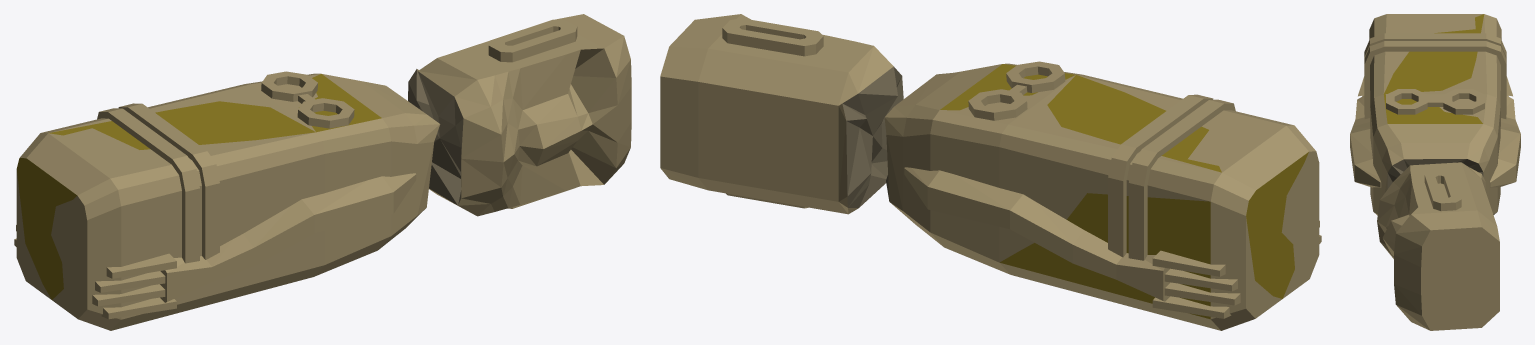
The model's file is fallen-moai-800fbb.glb.
The picture shows the model from 3 angles, left to right: view 1: azimuth 30°, elevation 25°; view 2: azimuth 150°, elevation 25°; view 3: azimuth 270°, elevation 25°; orthographic projection. The views are drawn at different scales.
Parts seen in each view (by area): view 1: moai-stone; view 2: moai-stone; view 3: moai-stone.
Part boxes in pixels (x1,y1,x2,y2): moai-stone: [14, 14, 631, 330]; moai-stone: [660, 14, 1321, 330]; moai-stone: [1350, 14, 1520, 330].
Bounding box in the file's own units: 5.42 × 1.43 × 1.78.
